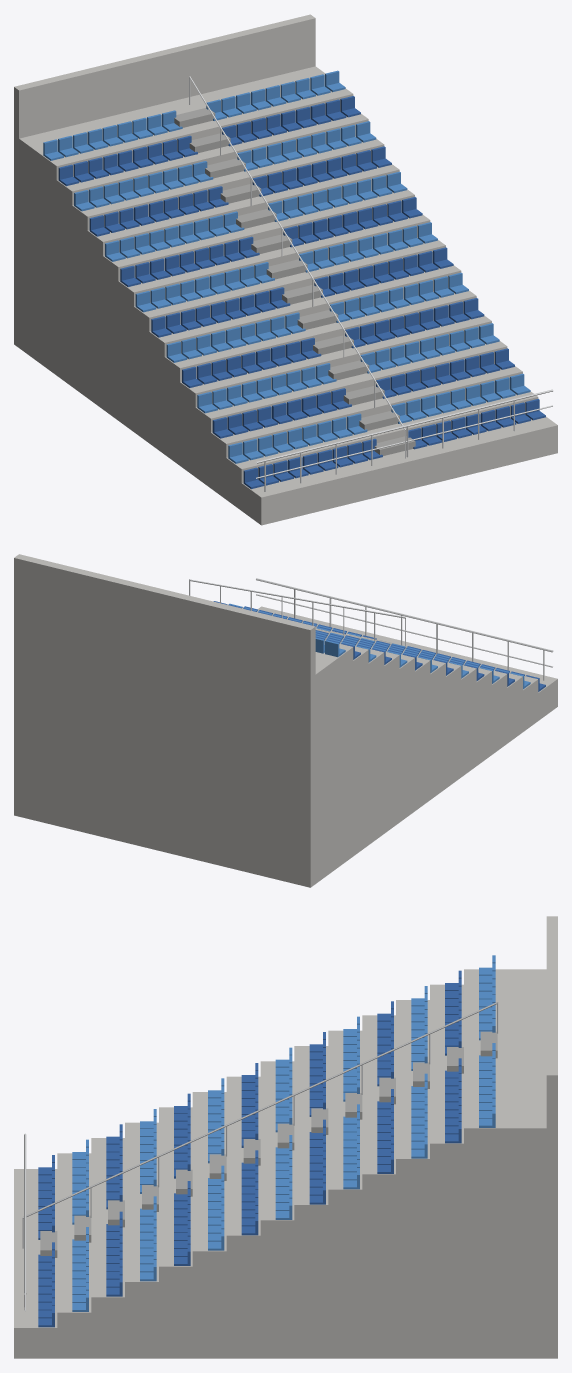
Rendered from bay_10m_large.glb.
3 views of the same model, one above another, from view 1: azimuth 30°, elevation 25°; view 2: azimuth 150°, elevation 25°; view 3: azimuth 270°, elevation 25° (orthographic). The views are drawn at different scales.
Parts seen in each view (by area): view 1: bay_10m_large; view 2: bay_10m_large; view 3: bay_10m_large.
Boxes of the visible parts, x1,y1,x2,y2 form: bay_10m_large: (14,14,557,525); bay_10m_large: (14,554,557,887); bay_10m_large: (14,916,557,1358).
Bounding box in the file's own units: 10 × 8.3 × 14.45.
